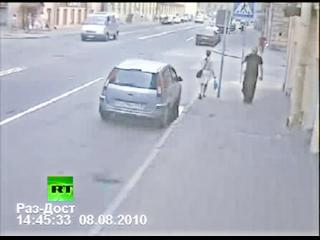Car: (106, 58, 182, 126), (82, 10, 118, 42), (198, 25, 219, 47), (232, 18, 247, 31), (161, 14, 179, 24), (194, 14, 205, 23), (181, 14, 191, 22)
